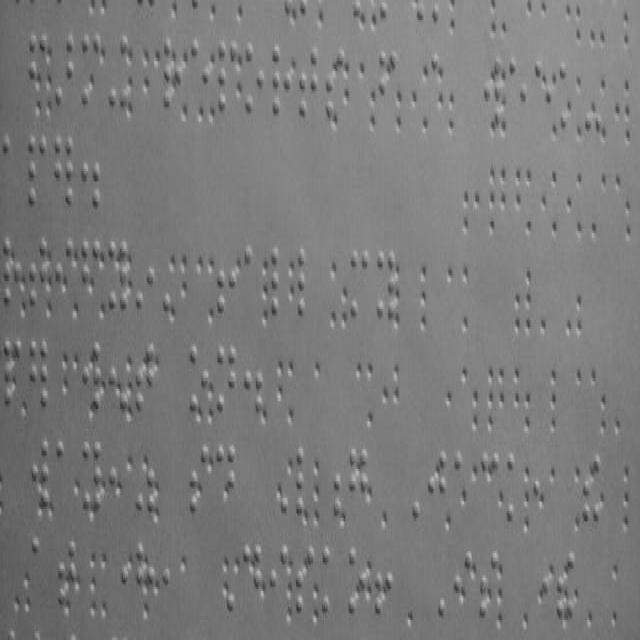braiile: (296, 245, 320, 319), (216, 34, 238, 112), (297, 42, 319, 118), (270, 242, 292, 318), (348, 244, 370, 320), (243, 39, 264, 117), (321, 541, 343, 615), (80, 437, 102, 510), (294, 444, 316, 516), (27, 132, 47, 210), (271, 40, 291, 116), (376, 246, 396, 322), (216, 342, 237, 413), (190, 34, 210, 108), (508, 56, 528, 130), (28, 237, 48, 310), (188, 343, 208, 412), (56, 439, 74, 508)
